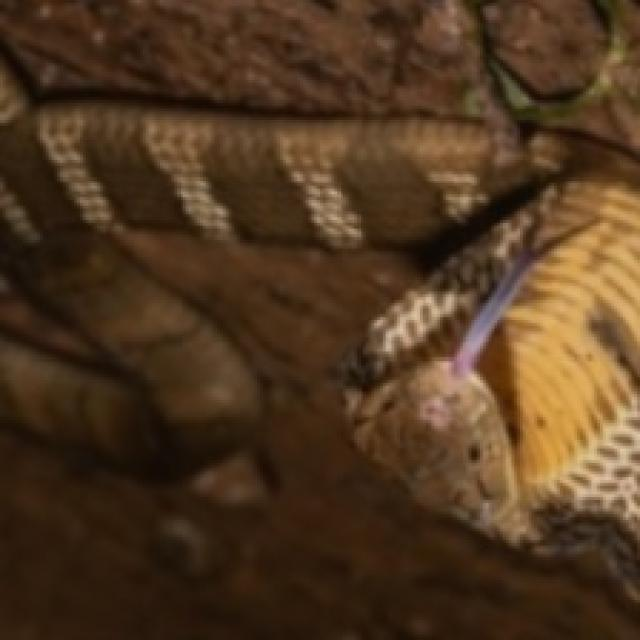king cobra: (0, 0, 637, 637), (354, 160, 637, 549)
